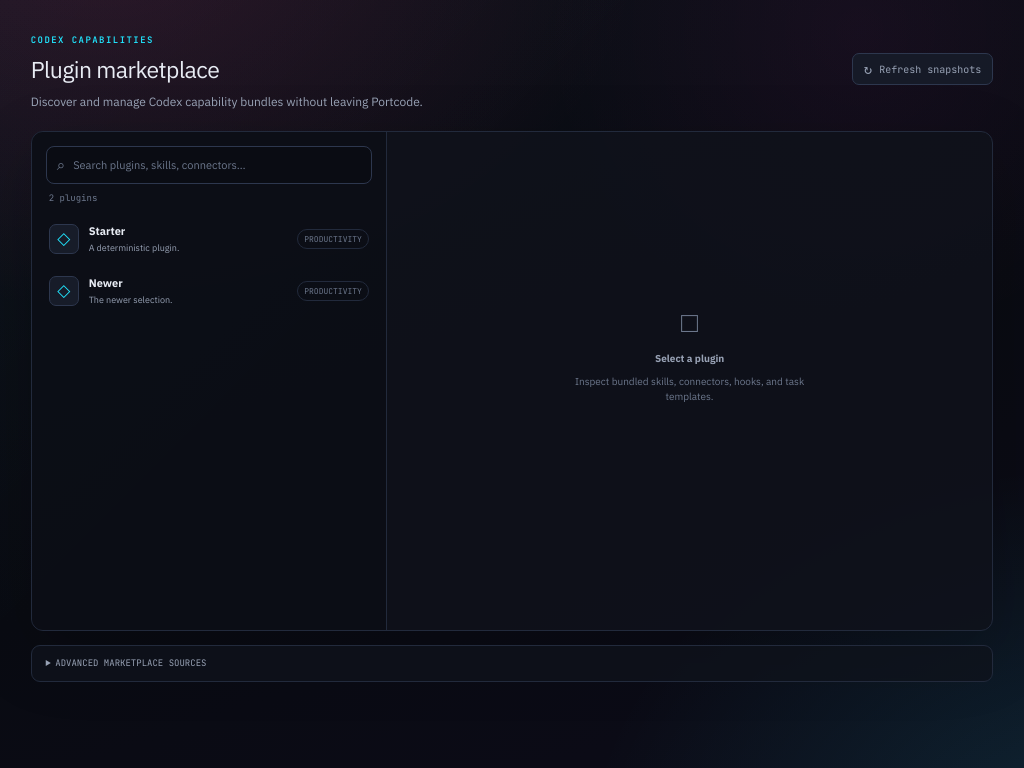
Test: CodexMarketplace › ignores a stale detail response after a newer plugin selection resolves
Step 1. Click the button "◇ Starter A deterministic plugin. productivity" → (107, 231), box [40,213,378,265]
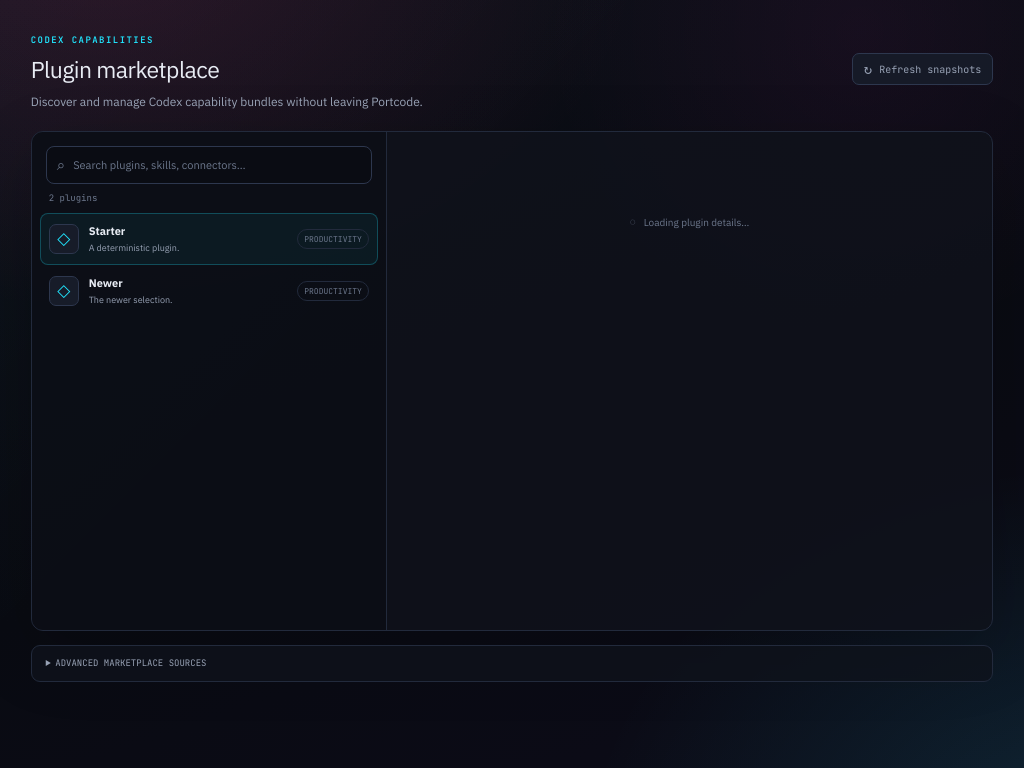
Step 2. Click the button "◇ Newer The newer selection. productivity" → (106, 283), box [40,265,378,317]
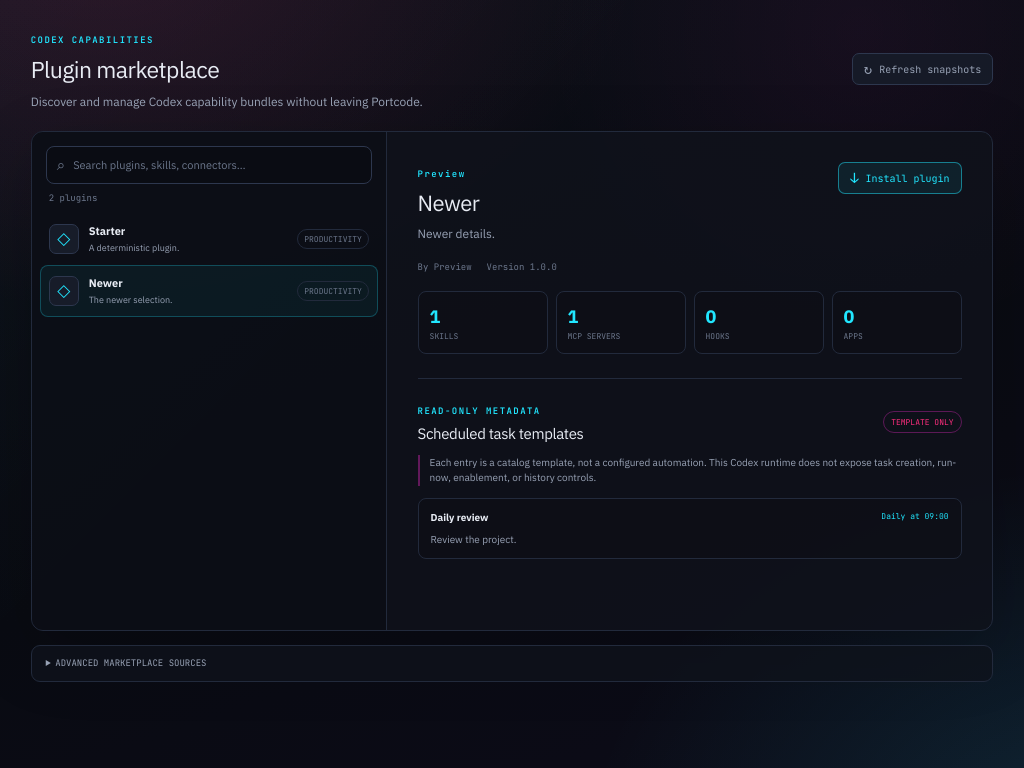
Result: the heading "Newer" is shown at [418,188,479,217]
